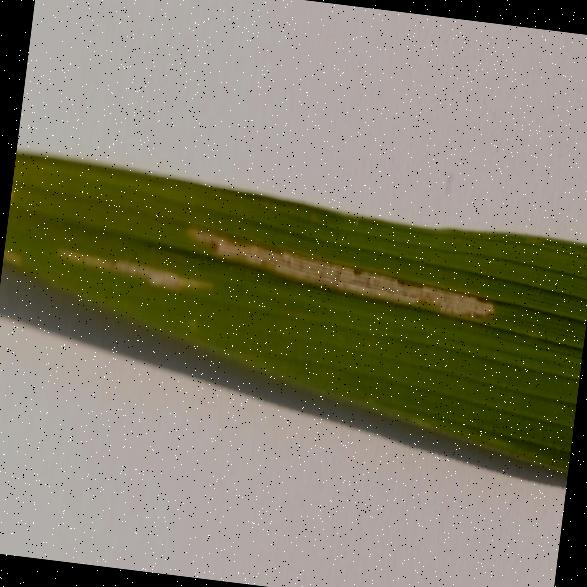Bacteria_Leaf_Blight: (171, 206, 517, 356), (42, 222, 241, 342)
